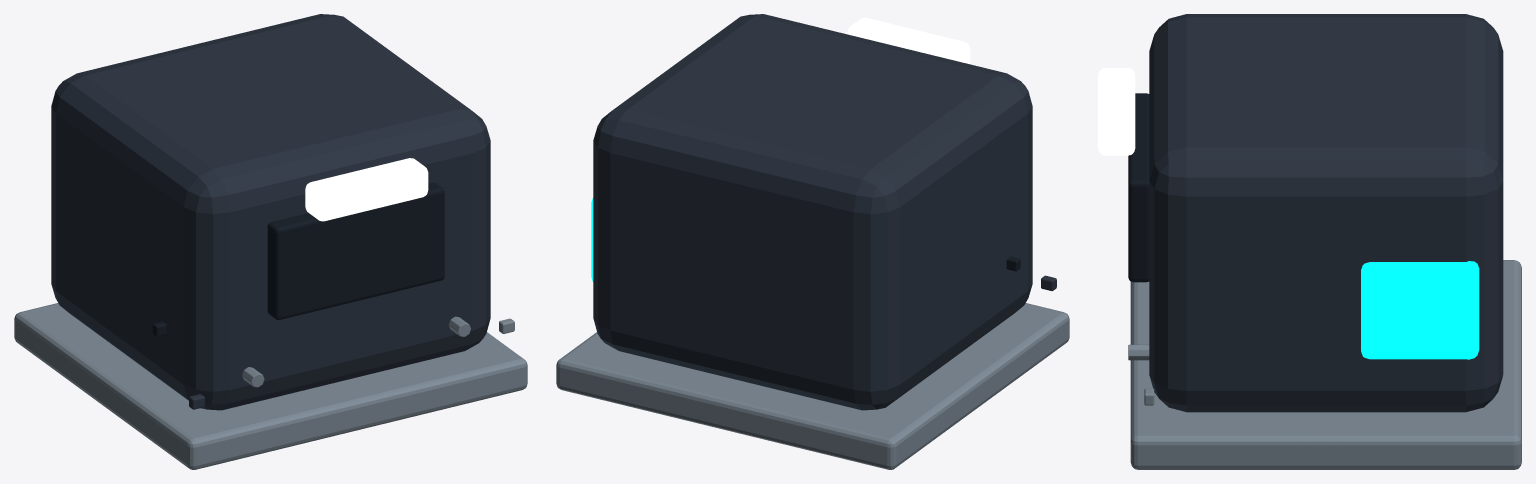
Rendered from prop_checkout_counter_tech_a_v01.glb.
3 renders of one model, left to right at view 1: azimuth 30°, elevation 25°; view 2: azimuth 150°, elevation 25°; view 3: azimuth 270°, elevation 25°, orthographic. The views are drawn at different scales.
Visible parts, largest first — view 1: component__object_specific_primary_body__primary_body, component__support_or_contact_structure__support, component__functional_opening_or_access__opening, component__handle_control_or_closure__handle; view 2: component__object_specific_primary_body__primary_body, component__support_or_contact_structure__support, component__handle_control_or_closure__handle; view 3: component__object_specific_primary_body__primary_body, component__support_or_contact_structure__support, component__secondary_functional_assembly__secondary_assembly, component__functional_opening_or_access__opening, component__handle_control_or_closure__handle.
Boxes of the visible parts, bbox=[...] form: component__object_specific_primary_body__primary_body: bbox=[51, 14, 490, 410]; component__support_or_contact_structure__support: bbox=[14, 303, 527, 469]; component__functional_opening_or_access__opening: bbox=[267, 182, 444, 319]; component__handle_control_or_closure__handle: bbox=[305, 158, 428, 221]; component__object_specific_primary_body__primary_body: bbox=[593, 14, 1032, 410]; component__support_or_contact_structure__support: bbox=[556, 303, 1069, 469]; component__handle_control_or_closure__handle: bbox=[847, 17, 970, 64]; component__object_specific_primary_body__primary_body: bbox=[1149, 14, 1503, 412]; component__support_or_contact_structure__support: bbox=[1130, 260, 1521, 469]; component__secondary_functional_assembly__secondary_assembly: bbox=[1361, 261, 1479, 359]; component__functional_opening_or_access__opening: bbox=[1128, 93, 1149, 282]; component__handle_control_or_closure__handle: bbox=[1098, 68, 1135, 155].
Bounding box in the file's own units: 1.38 × 1.07 × 1.37.
